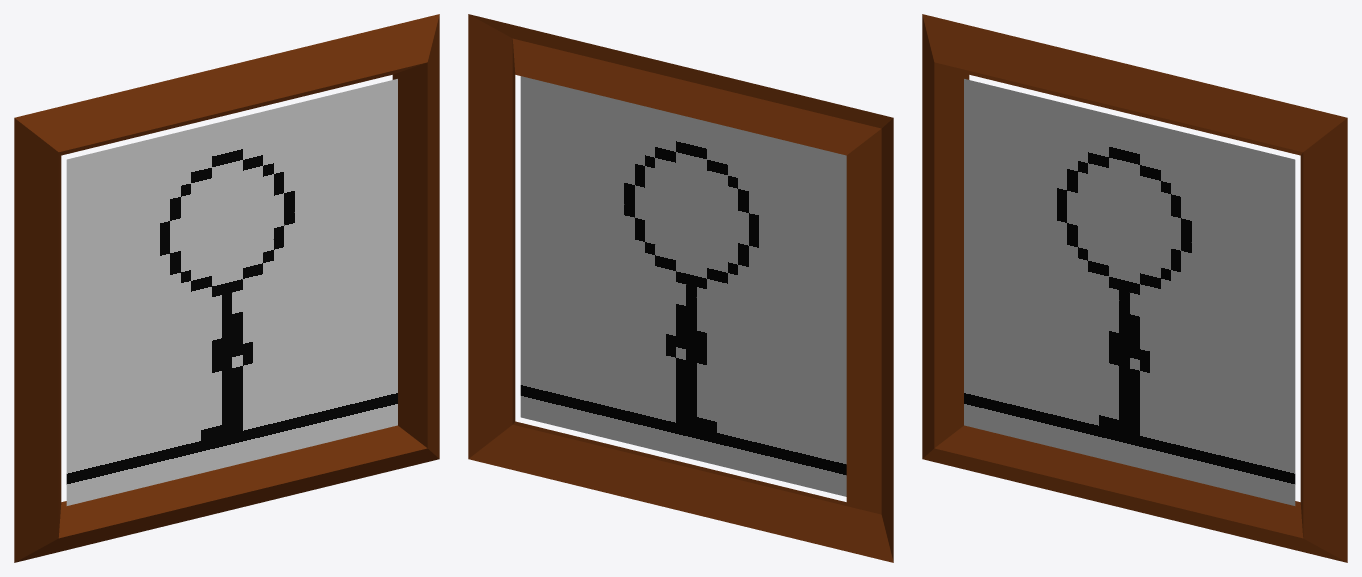
The model's file is walkPainting3.glb.
The picture shows the model from 3 angles, left to right: view 1: azimuth 30°, elevation 25°; view 2: azimuth 150°, elevation 25°; view 3: azimuth 330°, elevation 25°; orthographic projection.
Visible parts, largest first — view 1: Canvas.001, Frame.004; view 2: Canvas.001, Frame.004; view 3: Canvas.001, Frame.004.
Boxes of the visible parts, x1,y1,x2,y2 form: Canvas.001: (66, 79, 397, 505); Frame.004: (14, 14, 439, 562); Canvas.001: (520, 76, 846, 496); Frame.004: (468, 14, 893, 562); Canvas.001: (964, 79, 1295, 505); Frame.004: (922, 14, 1347, 562).
Bounding box in the file's own units: 1.28 × 1.28 × 0.0849.
2 materials, 1 textured.
